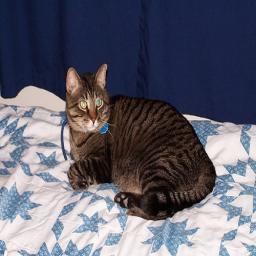catnose: (90, 115, 97, 125)
